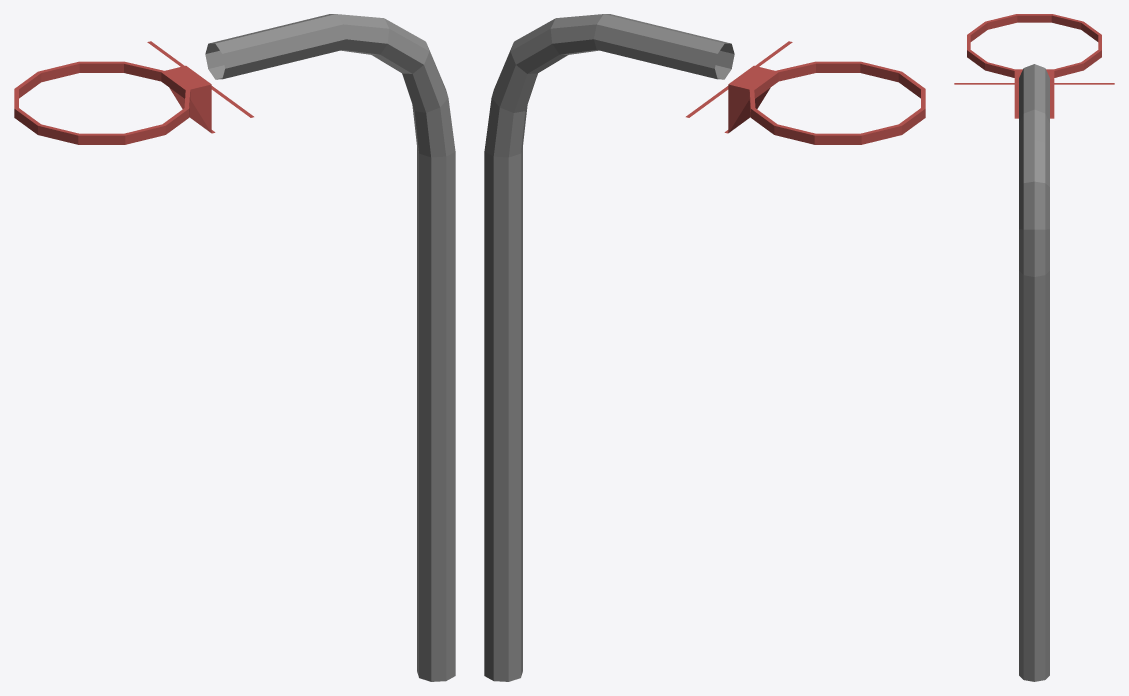
File: BasketballRing.fbx
The picture shows the model from 3 angles, left to right: view 1: azimuth 30°, elevation 25°; view 2: azimuth 150°, elevation 25°; view 3: azimuth 270°, elevation 25°; orthographic projection. The views are drawn at different scales.
Parts seen in each view (by area): view 1: BasketballRing; view 2: BasketballRing; view 3: BasketballRing.
Part boxes in pixels (<box>): BasketballRing: <box>14,14,455,681</box>; BasketballRing: <box>484,14,925,681</box>; BasketballRing: <box>954,14,1114,681</box>.
Bounding box in the file's own units: 213 × 325 × 89.34.
